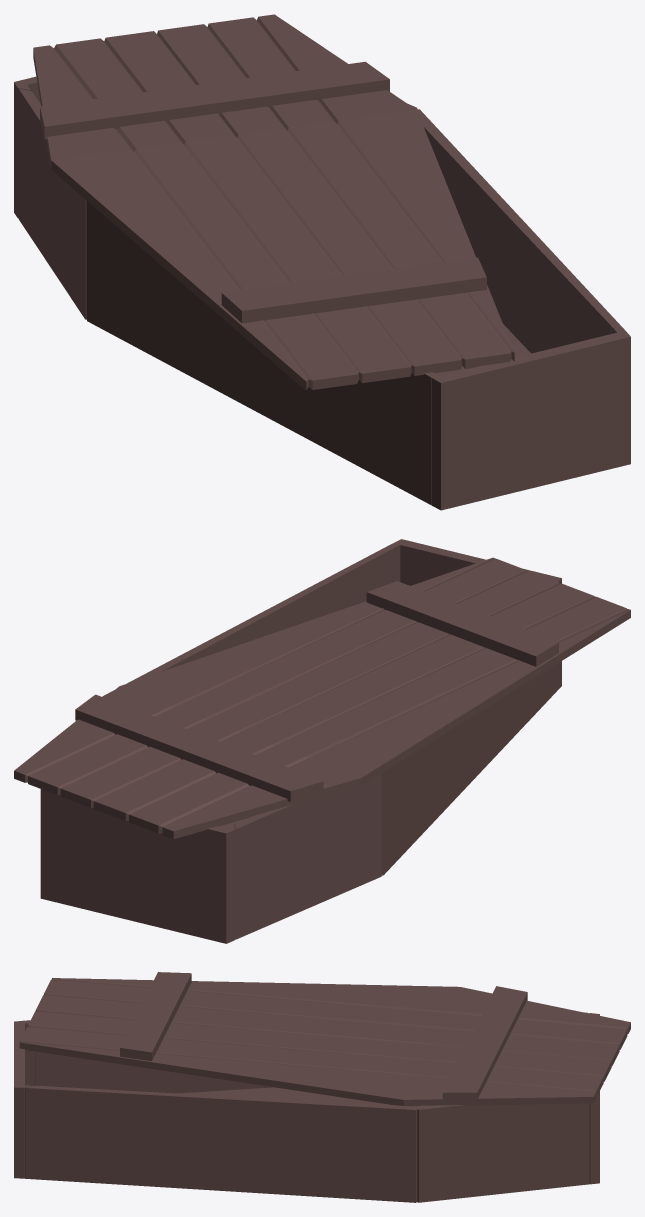
Rendered from coffin_2_mat.fbx.
3 renders of one model, top to bottom at view 1: azimuth 30°, elevation 25°; view 2: azimuth 150°, elevation 25°; view 3: azimuth 270°, elevation 25°, orthographic. The views are drawn at different scales.
Parts seen in each view (by area): view 1: coffin_2_mat; view 2: coffin_2_mat; view 3: coffin_2_mat.
Boxes of the visible parts, bbox=[...] form: coffin_2_mat: bbox=[14, 14, 630, 510]; coffin_2_mat: bbox=[14, 539, 630, 943]; coffin_2_mat: bbox=[14, 972, 630, 1202].
Bounding box in the file's own units: 230 × 89.07 × 469.
